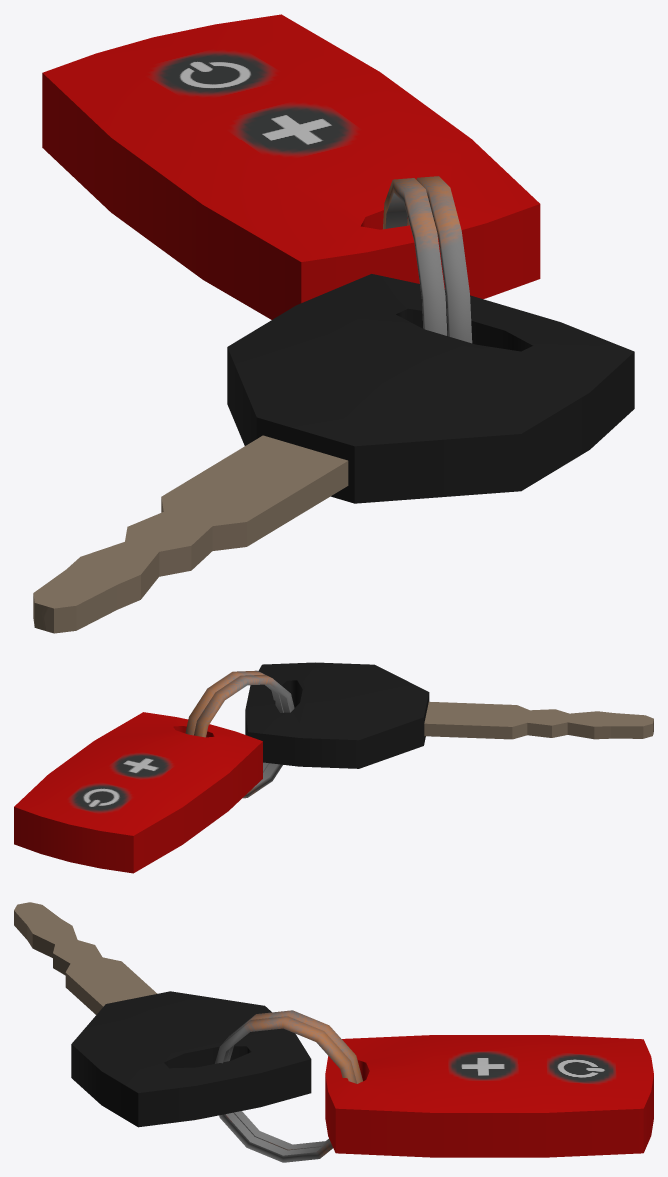
File: car_key.fbx
3 views of the same model, one above another, from view 1: azimuth 30°, elevation 25°; view 2: azimuth 150°, elevation 25°; view 3: azimuth 270°, elevation 25° (orthographic). The views are drawn at different scales.
Parts seen in each view (by area): view 1: car_key1; view 2: car_key1; view 3: car_key1.
Boxes of the visible parts, x1=… form: car_key1: x1=33, y1=14, x2=634, y2=633; car_key1: x1=14, y1=662, x2=653, y2=873; car_key1: x1=14, y1=902, x2=653, y2=1162.
Size of the model in its own units: 3.25 by 0.95 by 3.89.
Materials: 1 (1 with a texture image).
